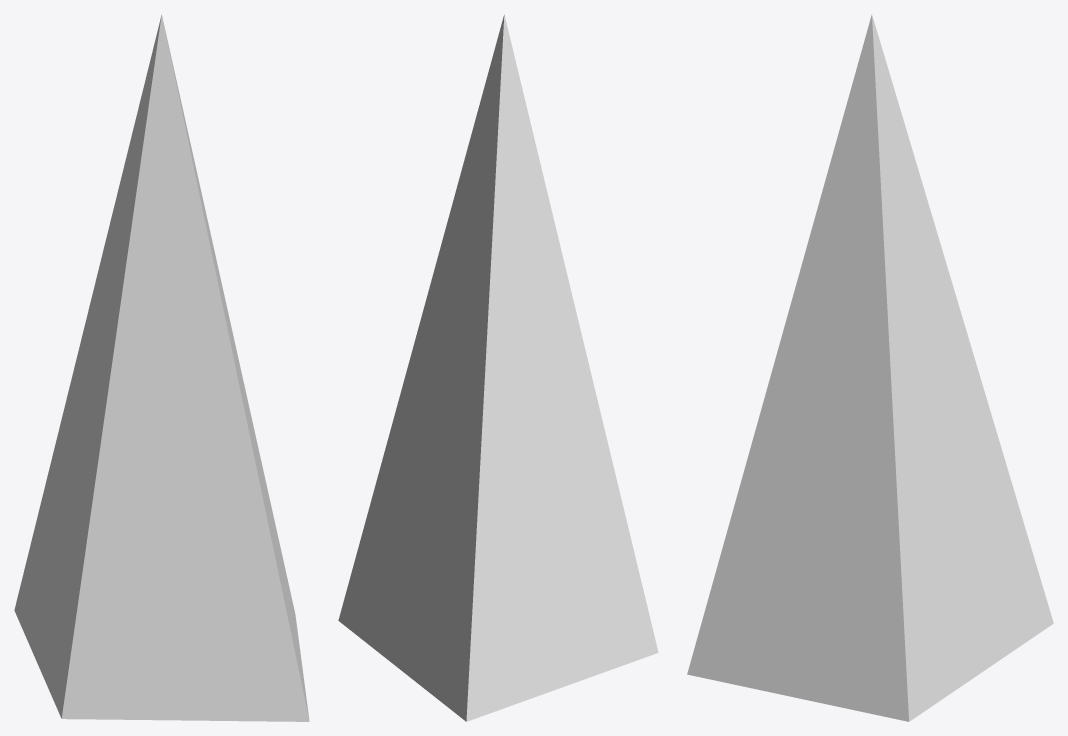
File: TreeWinter4.fbx
3 views of the same model, side by side, from view 1: azimuth 30°, elevation 25°; view 2: azimuth 150°, elevation 25°; view 3: azimuth 270°, elevation 25° (orthographic). The views are drawn at different scales.
Parts seen in each view (by area): view 1: TreeWinter4; view 2: TreeWinter4; view 3: TreeWinter4.
Boxes of the visible parts, left/top/right/bottom form: TreeWinter4: left=14, top=14, right=309, bottom=721; TreeWinter4: left=338, top=14, right=658, bottom=721; TreeWinter4: left=687, top=14, right=1053, bottom=721.
Size of the model in its own units: 1.26 by 2.78 by 1.46.
